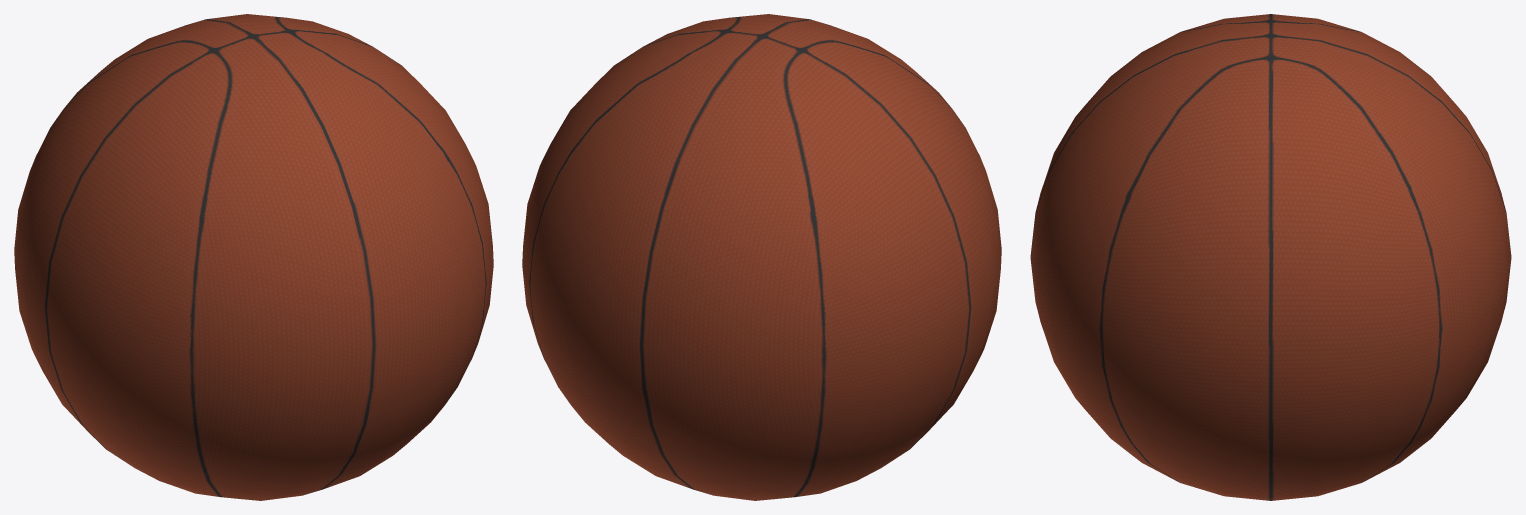
The model's file is SM_Ball.fbx.
3 views of the same model, side by side, from view 1: azimuth 30°, elevation 25°; view 2: azimuth 150°, elevation 25°; view 3: azimuth 270°, elevation 25° (orthographic).
Parts seen in each view (by area): view 1: SM_Ball; view 2: SM_Ball; view 3: SM_Ball.
Part boxes in pixels (x1,y1,x2,y2): SM_Ball: (14,14,493,500); SM_Ball: (522,14,1001,500); SM_Ball: (1030,14,1511,500).
Bounding box in the file's own units: 11.77 × 11.98 × 11.77.
1 material, 1 textured.
